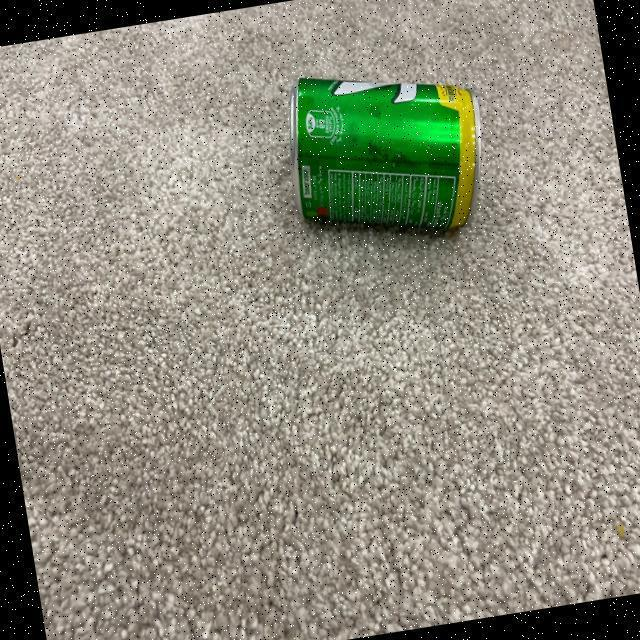can: (270, 48, 500, 264)
